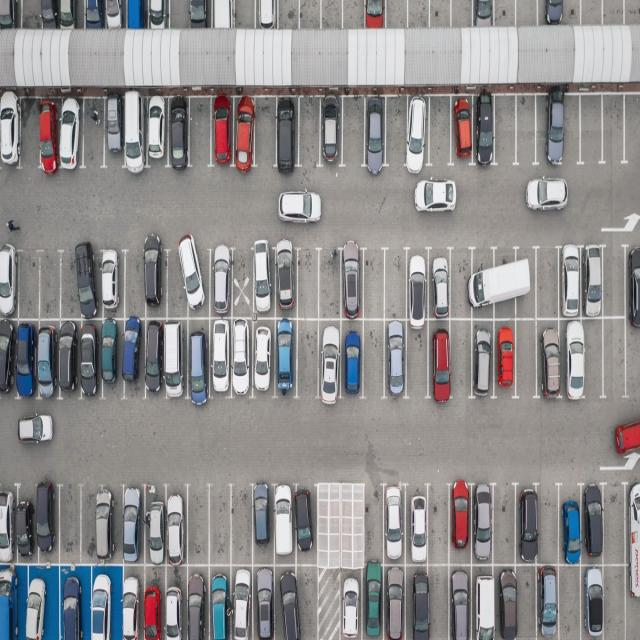space-empty: (291, 564, 319, 638), (447, 319, 473, 398), (404, 321, 431, 397), (293, 320, 319, 398), (318, 567, 346, 639), (423, 564, 450, 638), (184, 488, 210, 564), (207, 488, 232, 567), (557, 563, 583, 638), (603, 319, 629, 394), (361, 319, 386, 396), (513, 320, 538, 397), (492, 487, 516, 565), (426, 96, 452, 168), (230, 487, 254, 565), (534, 249, 560, 320), (426, 486, 449, 566), (361, 488, 384, 568), (492, 93, 517, 166), (188, 98, 214, 168), (604, 563, 628, 638), (83, 98, 108, 169), (602, 484, 624, 564), (582, 318, 604, 398), (603, 96, 628, 166), (229, 244, 252, 320), (580, 94, 604, 166), (604, 245, 628, 317), (255, 97, 279, 169), (383, 97, 407, 169), (342, 96, 366, 167), (59, 486, 82, 560), (538, 489, 560, 566), (383, 251, 407, 321), (297, 248, 321, 318), (515, 94, 538, 166), (298, 98, 322, 167), (449, 250, 473, 319), (61, 249, 85, 318), (20, 100, 43, 172), (360, 252, 385, 318), (124, 250, 148, 318), (317, 250, 341, 318), (516, 566, 538, 638), (166, 246, 188, 317), (38, 252, 61, 318), (18, 253, 40, 318), (318, 491, 336, 567), (79, 488, 97, 562), (625, 320, 640, 396), (625, 95, 640, 165), (319, 0, 343, 32), (342, 0, 366, 30), (384, 0, 408, 29), (299, 0, 322, 30), (21, 0, 43, 30), (169, 0, 191, 30), (277, 0, 299, 30), (515, 0, 539, 27), (407, 1, 431, 28), (234, 0, 256, 29), (451, 0, 474, 27), (493, 0, 515, 27), (430, 0, 452, 27), (601, 1, 624, 24), (581, 1, 603, 24), (624, 0, 640, 24)
space-occupied: (86, 562, 120, 638), (18, 565, 50, 640), (58, 566, 90, 640), (561, 318, 590, 399), (540, 94, 571, 168), (33, 562, 63, 638), (186, 318, 213, 399), (471, 564, 500, 638), (251, 319, 278, 398), (206, 319, 233, 398), (446, 483, 472, 563), (161, 318, 187, 398), (183, 243, 211, 317), (538, 320, 564, 399), (272, 318, 298, 396), (122, 318, 148, 396), (339, 318, 365, 396), (163, 486, 189, 564), (316, 319, 342, 397), (230, 565, 257, 640), (558, 248, 586, 320), (491, 246, 519, 318), (380, 484, 405, 564), (208, 244, 235, 318), (405, 484, 430, 563), (227, 319, 252, 398), (160, 567, 187, 640), (206, 565, 233, 638), (428, 321, 453, 399), (384, 319, 409, 397), (140, 564, 166, 639), (273, 563, 299, 638), (404, 98, 431, 170), (100, 250, 128, 319), (492, 317, 517, 394), (31, 482, 56, 559), (448, 564, 474, 638), (122, 96, 148, 170), (552, 93, 578, 167), (560, 488, 585, 564), (142, 96, 168, 169), (122, 487, 146, 566), (536, 563, 561, 638), (121, 564, 146, 639), (183, 564, 208, 639), (472, 317, 496, 395), (472, 486, 496, 564), (472, 246, 498, 318), (253, 564, 278, 638), (340, 569, 366, 640), (142, 484, 165, 564), (578, 562, 602, 638), (34, 321, 58, 397), (450, 96, 476, 166), (209, 97, 234, 169), (380, 563, 404, 638), (253, 486, 276, 564), (274, 243, 298, 317), (254, 243, 278, 317), (405, 564, 429, 638), (167, 99, 192, 170), (94, 486, 117, 563), (13, 319, 36, 396), (273, 486, 296, 562), (292, 490, 315, 566), (426, 251, 452, 318), (230, 96, 254, 168), (101, 317, 123, 395), (79, 320, 101, 398), (579, 246, 603, 317), (60, 98, 84, 169), (512, 247, 536, 318), (318, 98, 343, 166), (58, 321, 80, 398), (516, 487, 538, 564), (144, 319, 166, 396), (274, 98, 298, 168), (364, 98, 388, 168), (106, 96, 130, 166), (494, 567, 517, 640), (38, 98, 61, 171), (359, 567, 382, 640), (103, 485, 124, 563), (340, 248, 364, 316), (407, 250, 431, 318), (144, 246, 167, 316), (473, 98, 496, 168), (81, 248, 104, 318), (584, 485, 604, 565), (7, 562, 28, 638), (1, 96, 22, 167), (14, 487, 34, 560), (0, 565, 18, 640), (0, 489, 17, 566), (0, 250, 19, 318), (625, 482, 640, 563), (625, 562, 640, 638), (0, 319, 14, 397), (540, 0, 580, 25), (627, 245, 640, 319), (255, 0, 281, 29), (58, 0, 82, 30), (84, 0, 108, 30), (125, 0, 149, 30), (147, 0, 171, 29), (363, 0, 387, 28), (210, 0, 233, 29), (187, 0, 210, 28), (103, 0, 125, 29), (473, 0, 497, 26), (0, 1, 21, 30), (39, 0, 57, 29)
